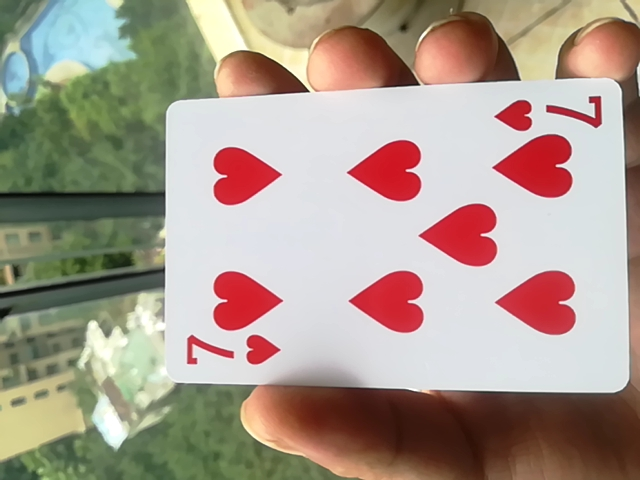hx 7: (156, 69, 626, 401)
